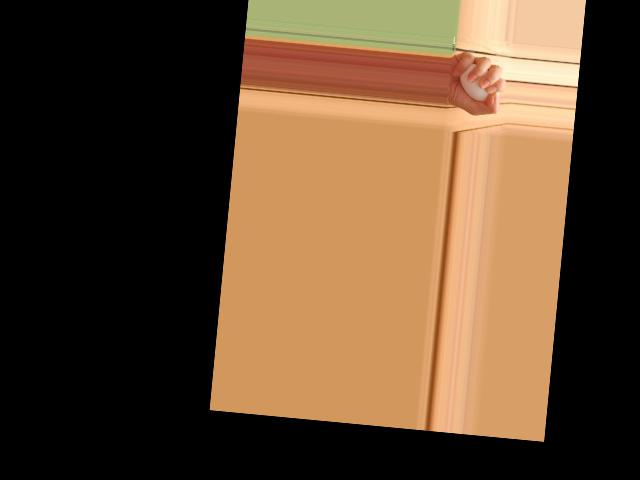egg: (457, 62, 494, 102)
